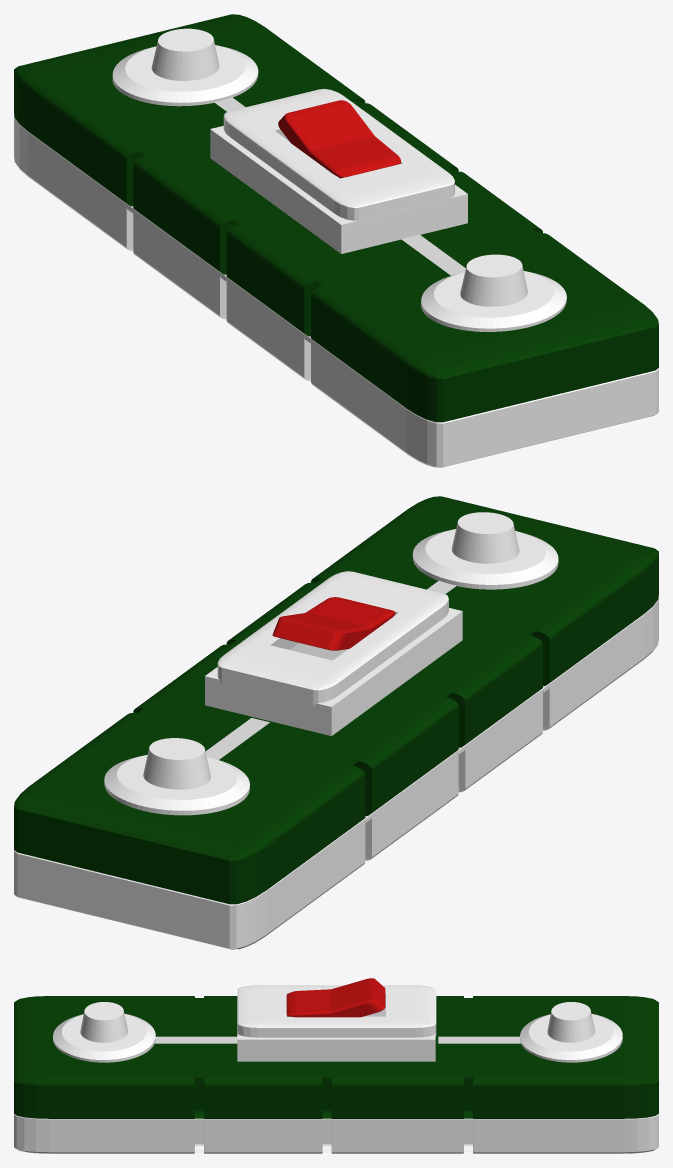
The model's file is switch.fbx.
The picture shows the model from 3 angles, top to bottom: view 1: azimuth 30°, elevation 25°; view 2: azimuth 150°, elevation 25°; view 3: azimuth 270°, elevation 25°; orthographic projection. The views are drawn at different scales.
Bounding box in the file's own units: 1.38 × 0.9124 × 4.27.
